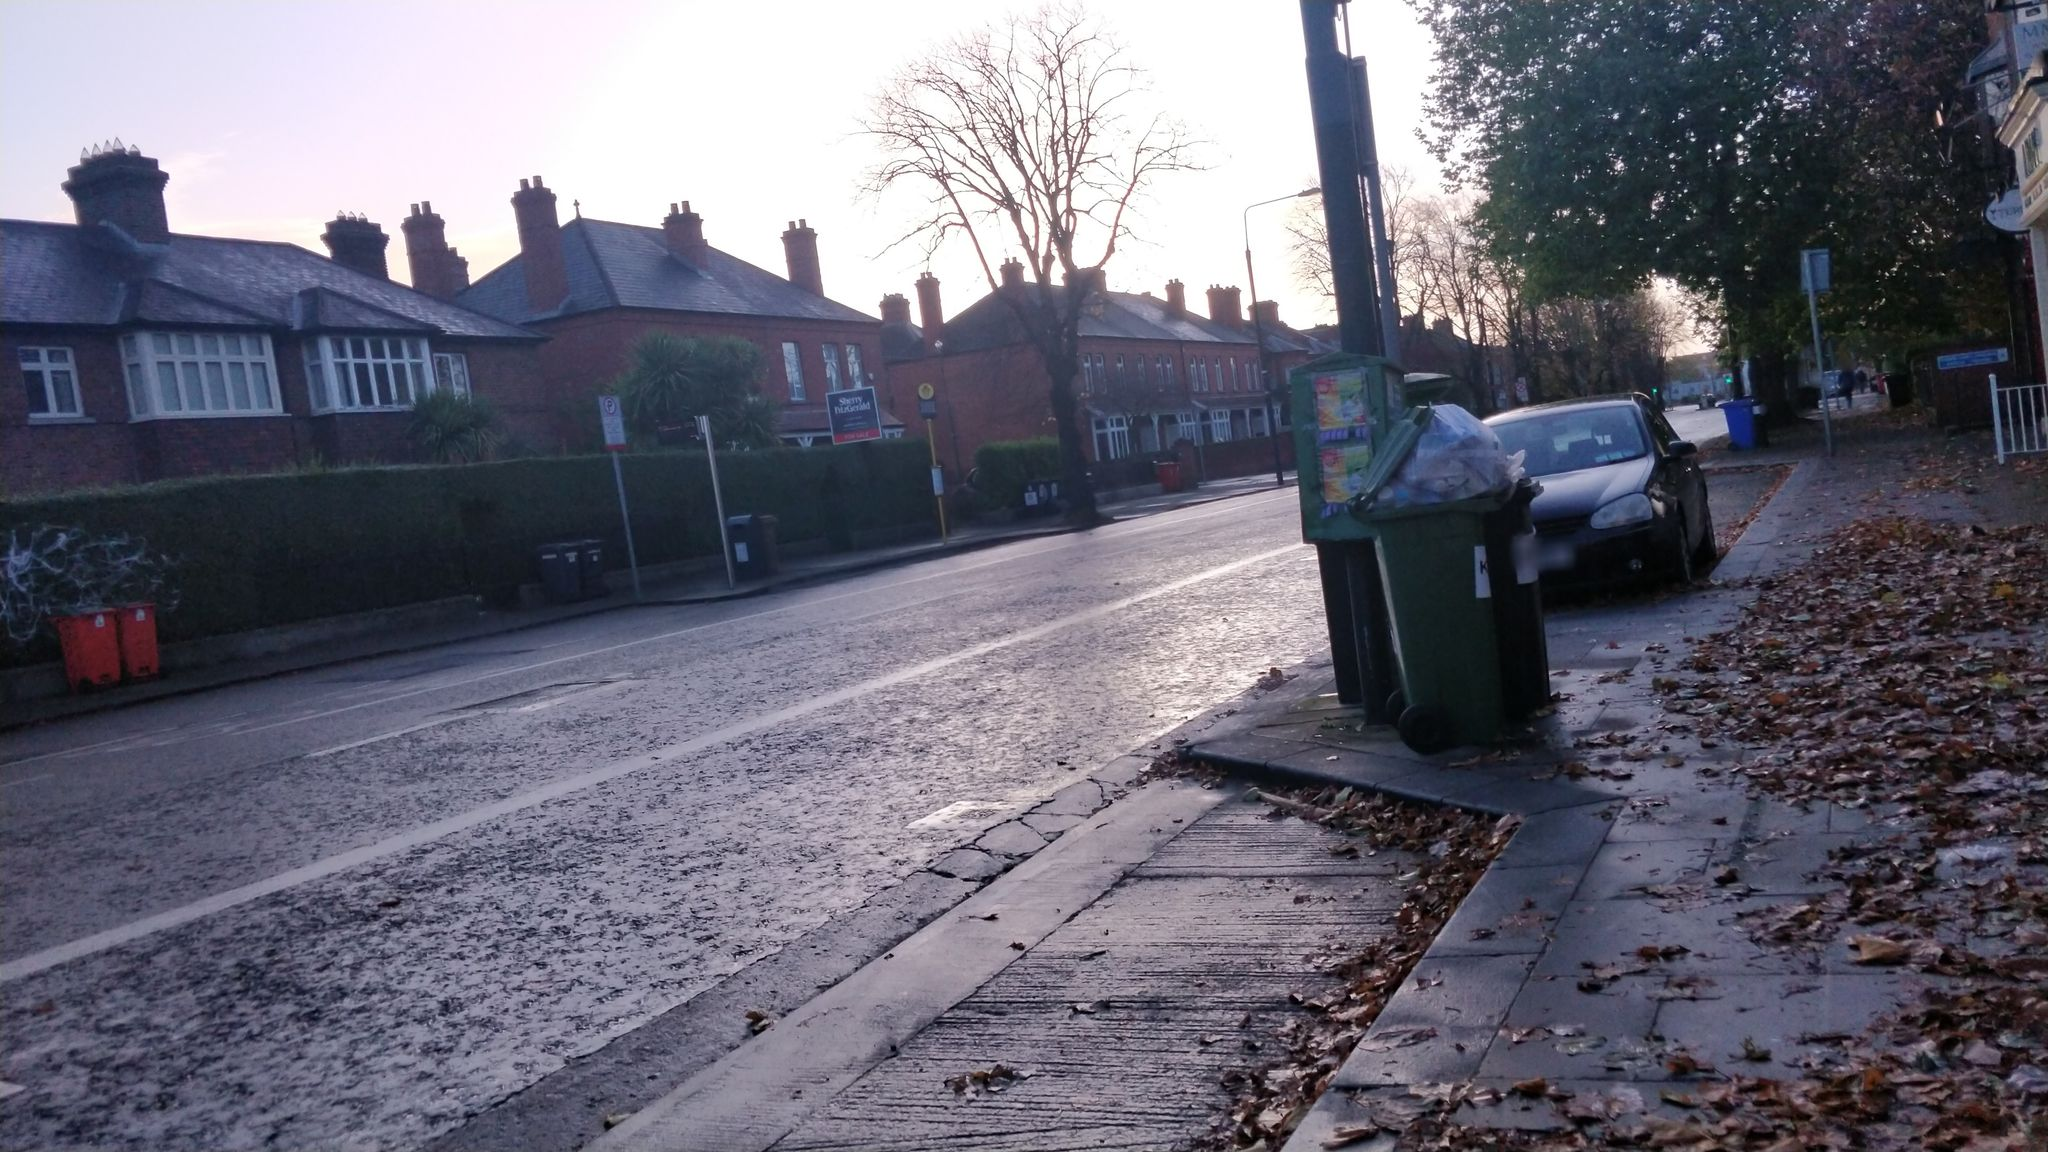property sign: (816, 361, 890, 453)
